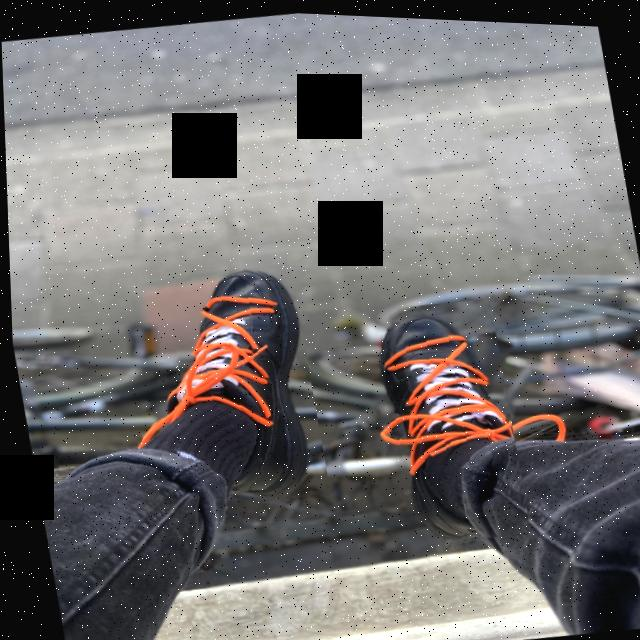shoe: (147, 256, 328, 515), (362, 290, 529, 551)
